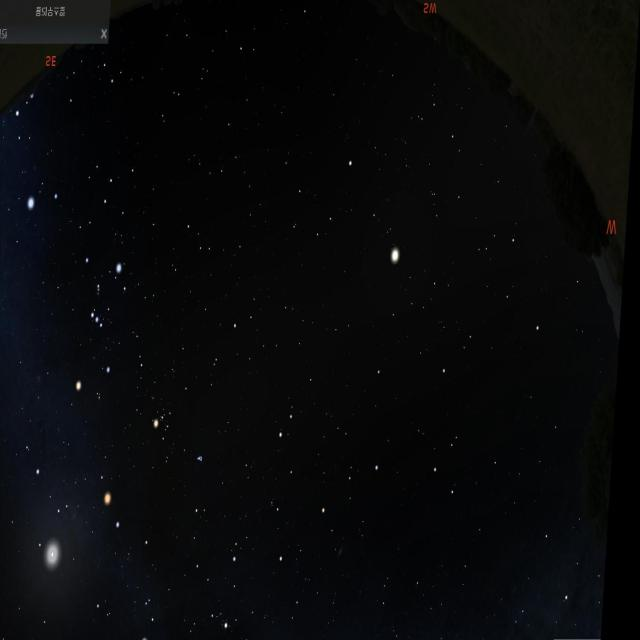canis_major: (17, 108, 68, 208)
gemini: (0, 490, 88, 640)
moon: (40, 520, 82, 580)
orion: (70, 250, 134, 395)
pleiades: (193, 445, 214, 472)
taurus: (151, 370, 219, 486)
